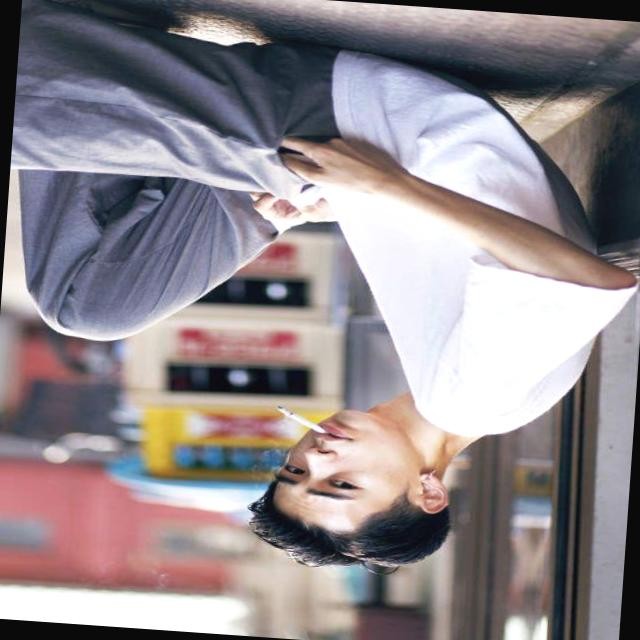smoke: (261, 389, 344, 447)
